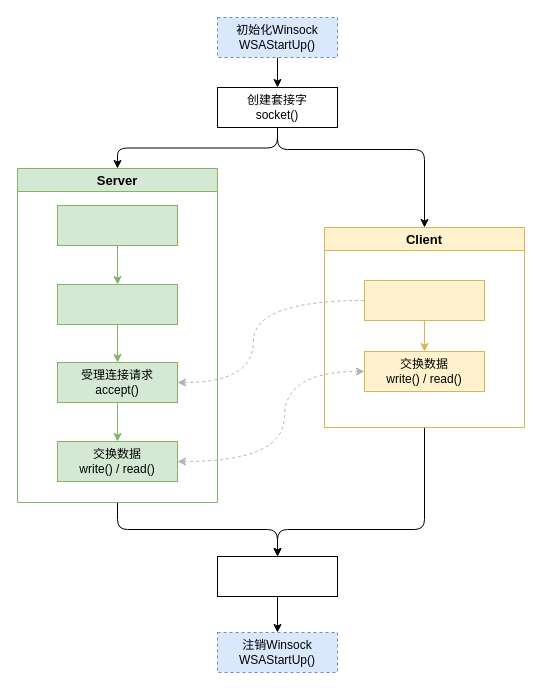
The diagram is 542 pixels wide and 690 high, and some of its shapes have lost their labels. Each missing label, with the centre of its shape:
"关闭连接 closesocket()" goes at point 277,576.
"分配IP与端口号 bind()" goes at point 117,225.
"切换为可接受状态 listen()" goes at point 117,304.
"发送连接请求 connect()" goes at point 424,300.
